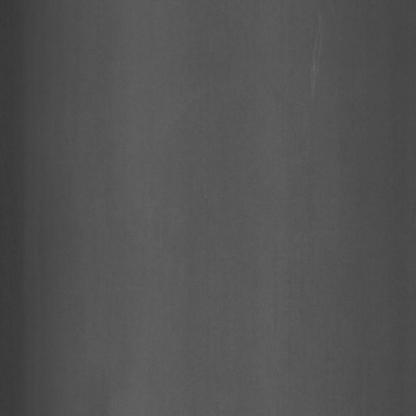silk_spot: (300, 13, 338, 99)
